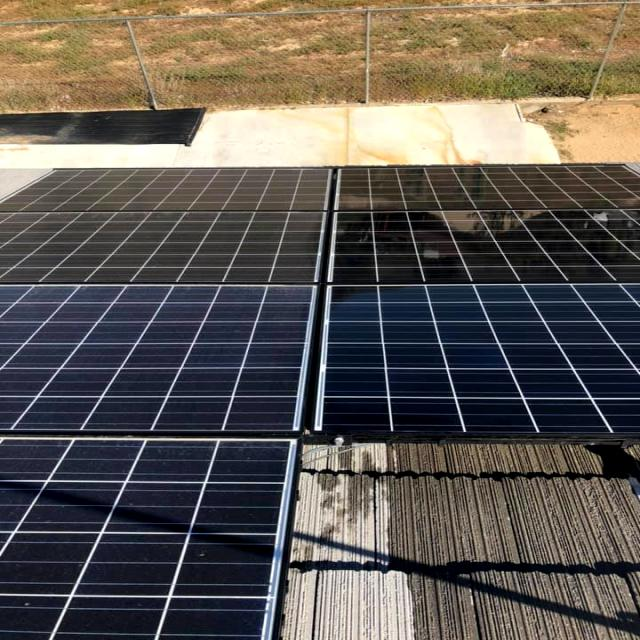crack: (0, 277, 322, 457), (0, 431, 250, 640), (327, 287, 640, 443), (14, 165, 357, 298), (338, 170, 640, 266)
